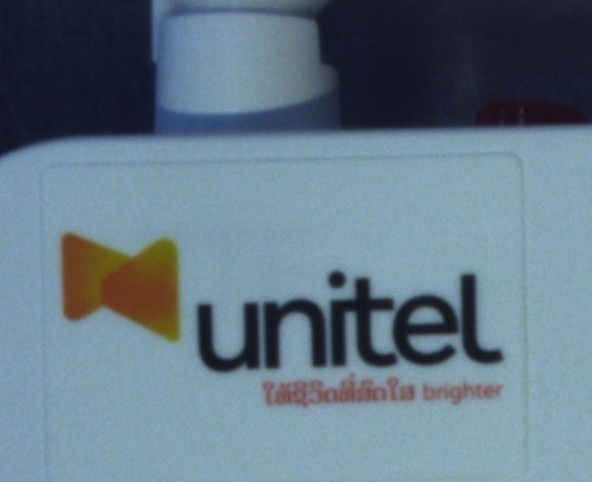BT_unitel: (57, 230, 506, 401)
